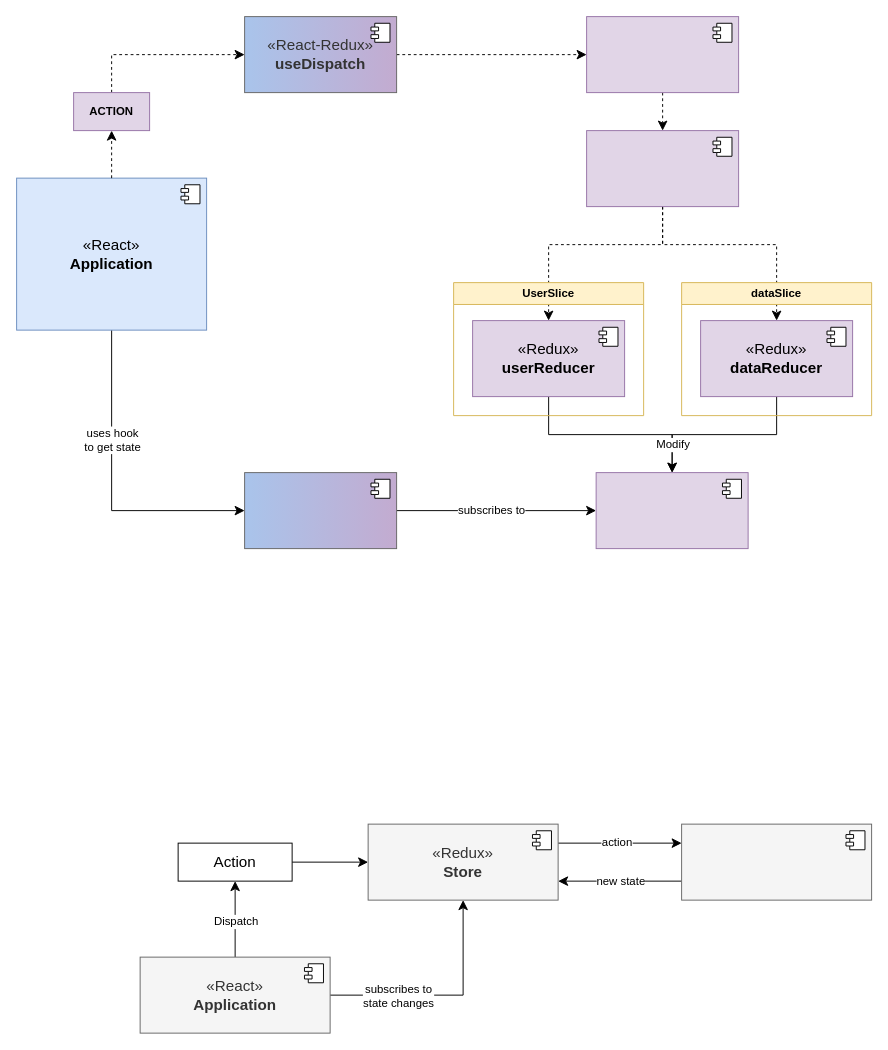
Some shapes in this 888 by 1050 pixel diagram are drawn without their labels. The shapes that lost their labels are listed below. From the top down, each one's centre as x and y in pixels, then its label:
the point at 662,54: «Redux» Middleware responsible for side effects
the point at 662,168: «Redux» rootReducer
the point at 320,510: «React-Redux» useSelector
the point at 671,510: «Redux» State
the point at 776,861: «Redux» Reducer
